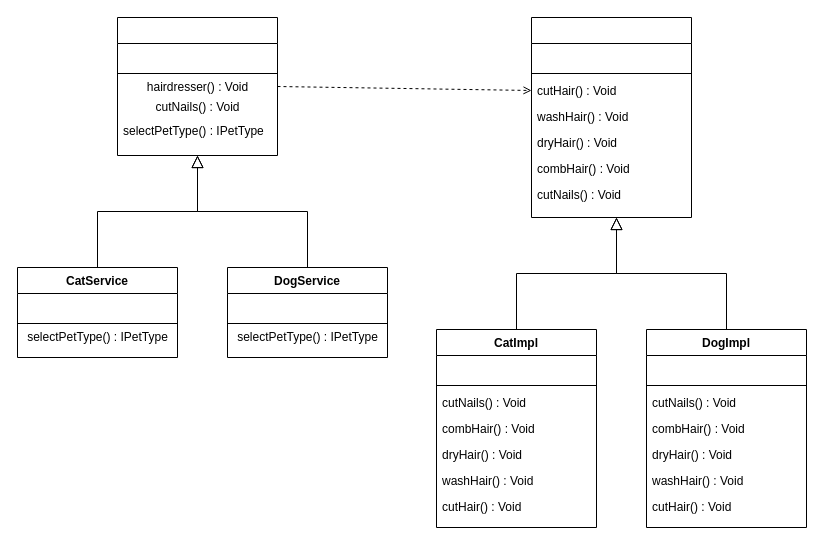
Some shapes in this 824 by 545 pixel diagram are drawn without their labels. Each missing label, with the box of its shape:
CreatorServiceAbstract: (116, 16, 278, 156)
IService: (530, 16, 692, 218)
